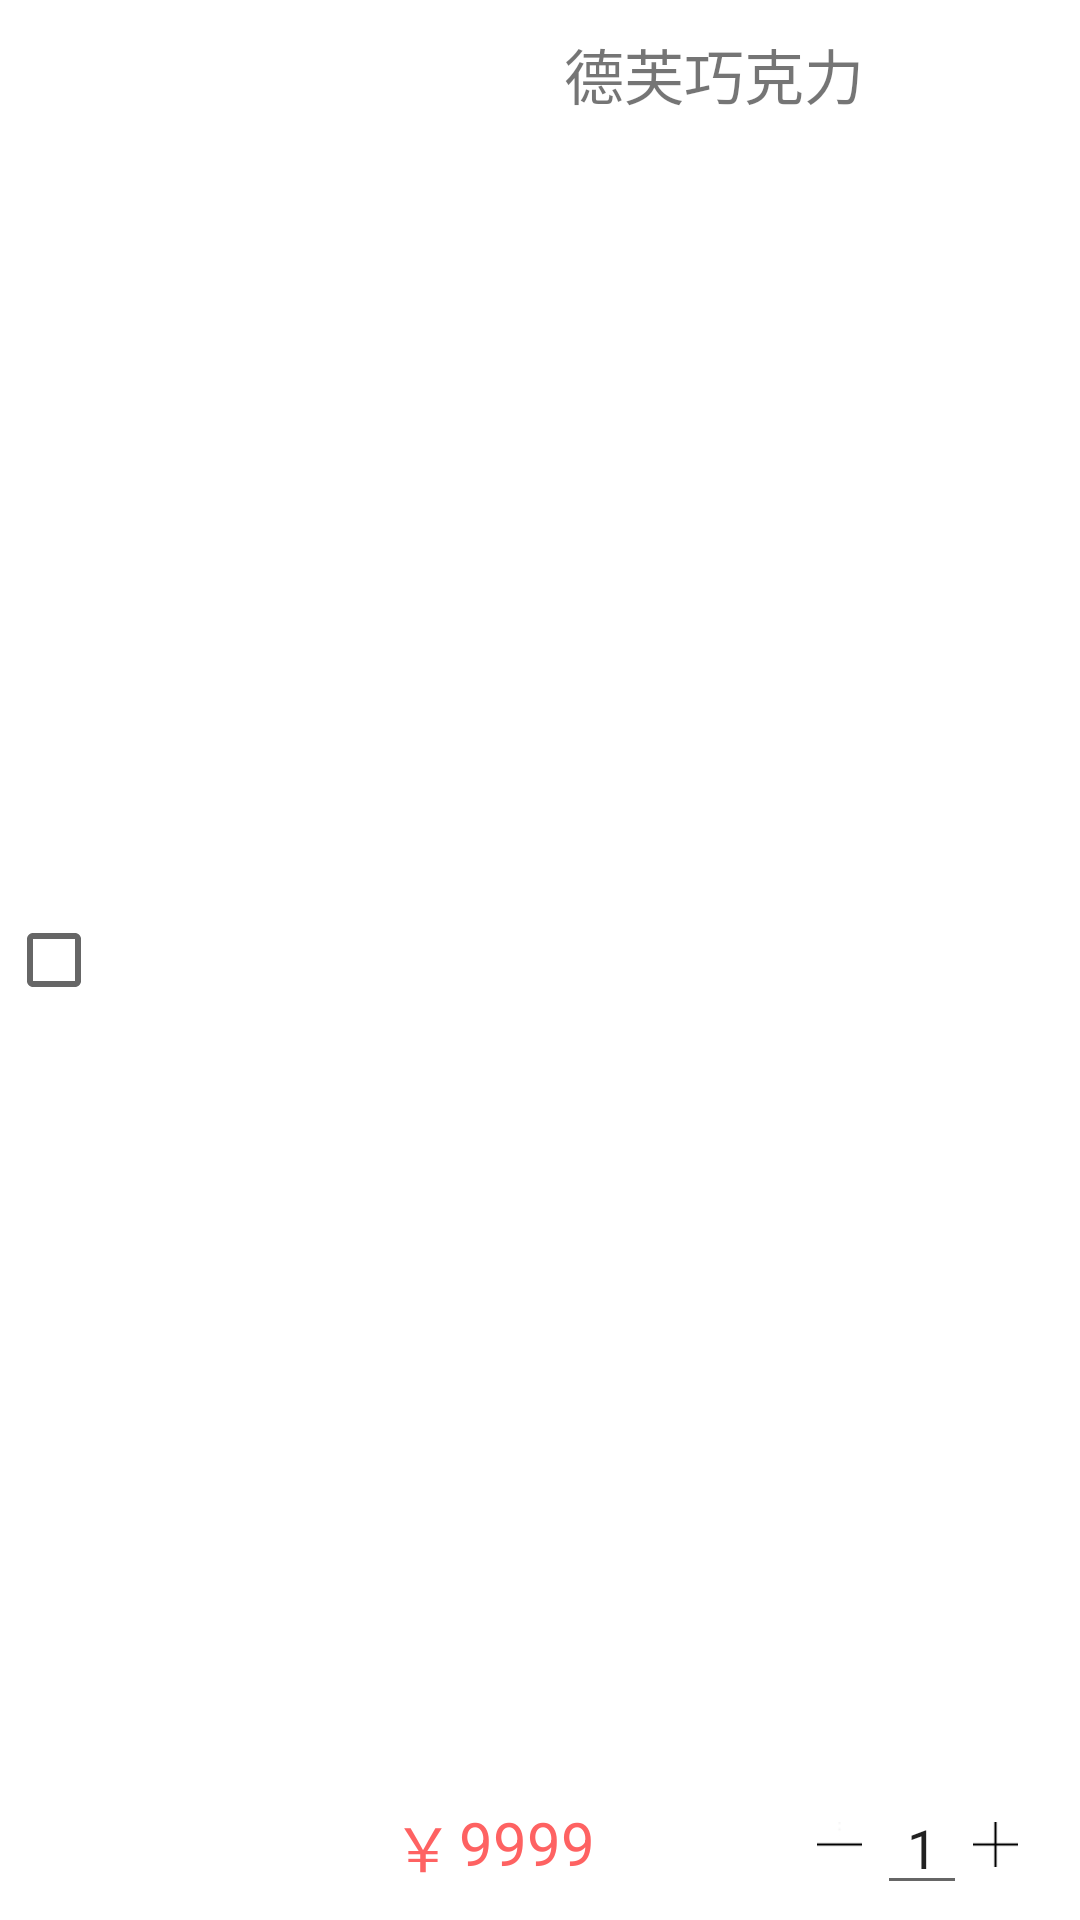

Where to tap for icons on this 1080×1920 app screen, as [x,y]:
add: [995,1844]
